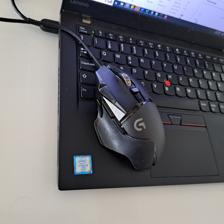mouse: (90, 61, 166, 171)
